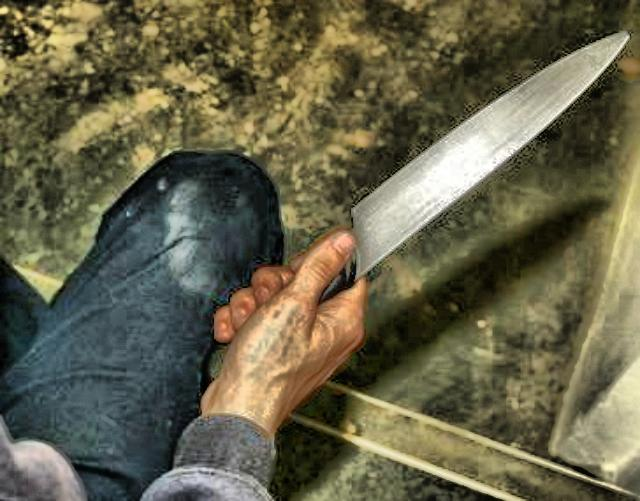knife: (211, 25, 629, 353)
